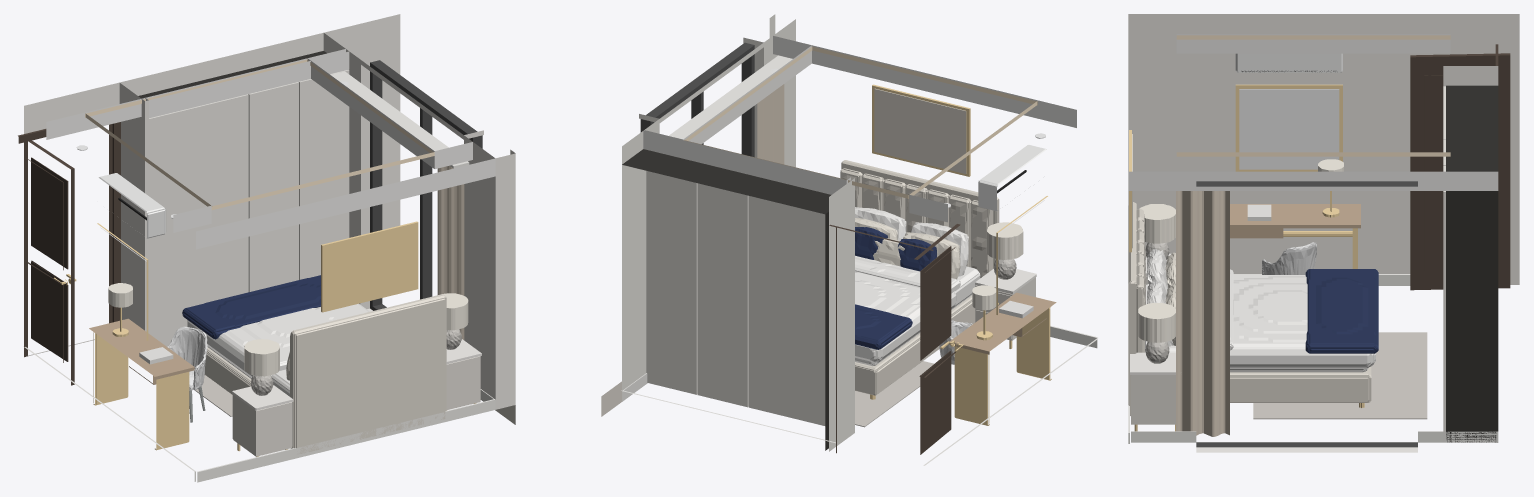
Rendered from ROOM2.glb.
3 views of the same model, side by side, from view 1: azimuth 30°, elevation 25°; view 2: azimuth 150°, elevation 25°; view 3: azimuth 270°, elevation 25° (orthographic). The views are drawn at different scales.
Visible parts, largest first — view 1: WEB_ROOM2; view 2: WEB_ROOM2; view 3: WEB_ROOM2.
Part boxes in pixels (x1,y1,x2,y2): WEB_ROOM2: (18,14,515,482); WEB_ROOM2: (601,14,1097,465); WEB_ROOM2: (1128,14,1519,452).
Bounding box in the file's own units: 3.98 × 2.7 × 3.27.
